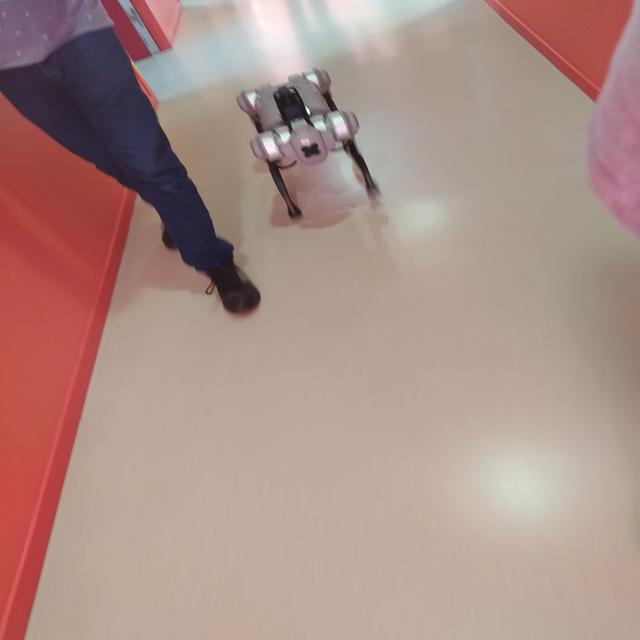unitree-go1-robot: (225, 56, 407, 232)
